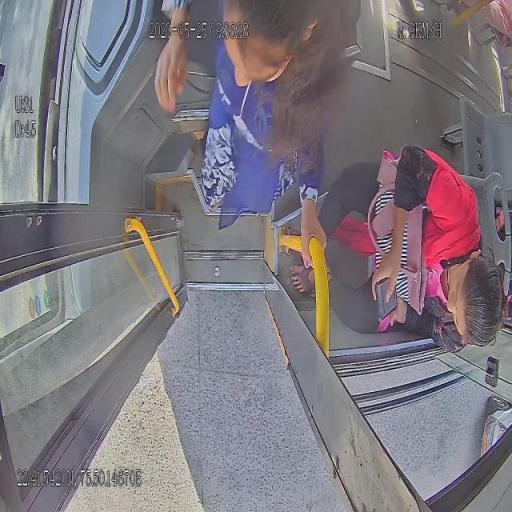persona: (152, 0, 337, 269), (290, 144, 507, 354)
